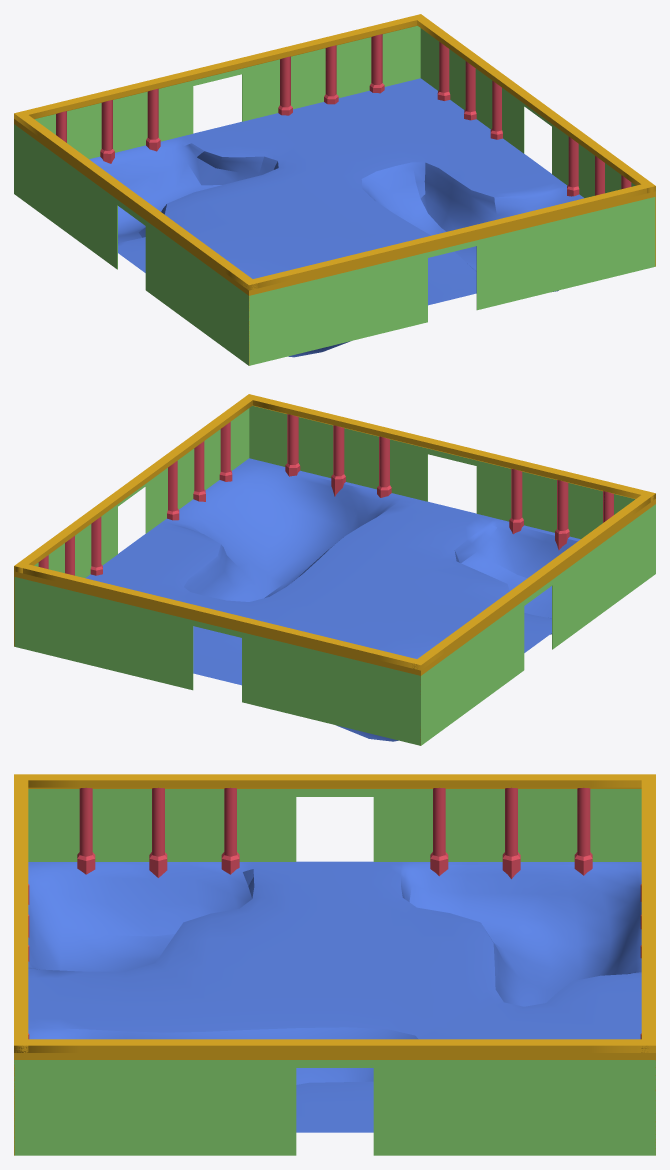
The model's file is WaterRoom.fbx.
3 views of the same model, one above another, from view 1: azimuth 30°, elevation 25°; view 2: azimuth 150°, elevation 25°; view 3: azimuth 270°, elevation 25° (orthographic). The views are drawn at different scales.
Visible parts, largest first — view 1: WaterFloor, WallSouth, WallNorth, WallWest, WallEast; view 2: WaterFloor, WallNorth, WallSouth, WallWest, WallEast; view 3: WaterFloor, WallEast, WallWest, WallSouth, WallNorth.
Part boxes in pixels (<box>): WaterFloor: <box>89,78,584,357</box>; WallSouth: <box>243,182,655,365</box>; WallNorth: <box>20,14,423,163</box>; WallWest: <box>14,111,257,365</box>; WallEast: <box>412,14,655,266</box>; WaterFloor: <box>85,458,580,741</box>; WallNorth: <box>14,562,424,745</box>; WallSouth: <box>247,394,655,550</box>; WallWest: <box>412,491,655,745</box>; WallEast: <box>14,394,257,646</box>; WaterFloor: <box>28,861,641,1132</box>; WallEast: <box>14,1039,655,1155</box>; WallWest: <box>14,774,655,879</box>; WallSouth: <box>14,774,29,1155</box>; WallNorth: <box>640,774,655,1154</box>.
Size of the model in its own units: 3003 by 796 by 3003.
